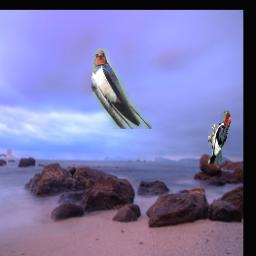Swallow: (91, 48, 152, 129)
Woodpecker: (209, 110, 232, 164)
